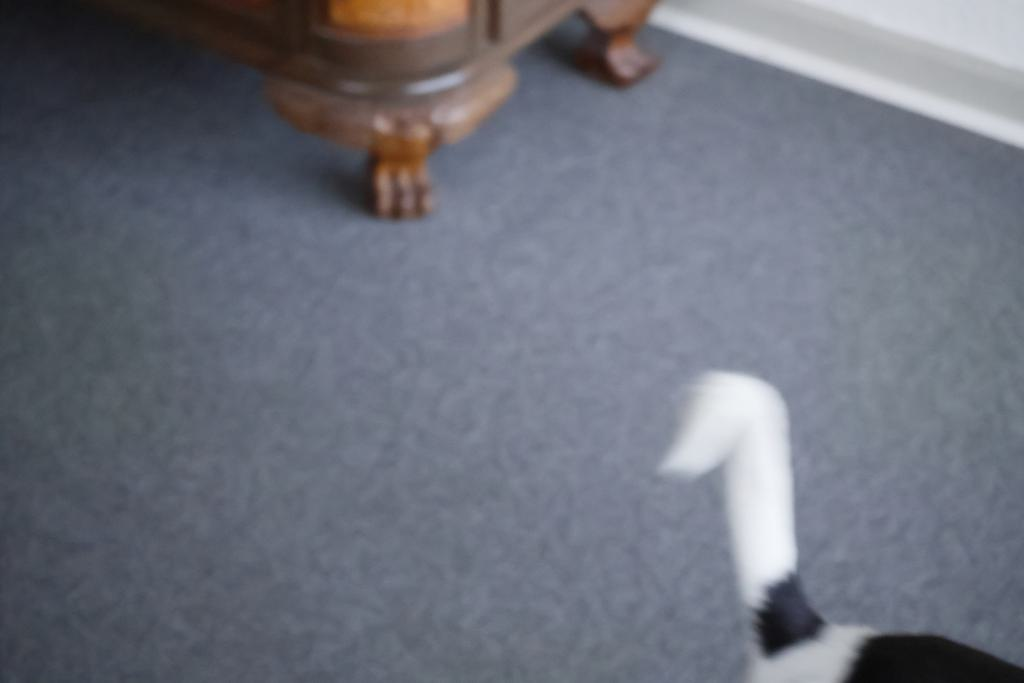Dog: (644, 334, 1024, 683)
